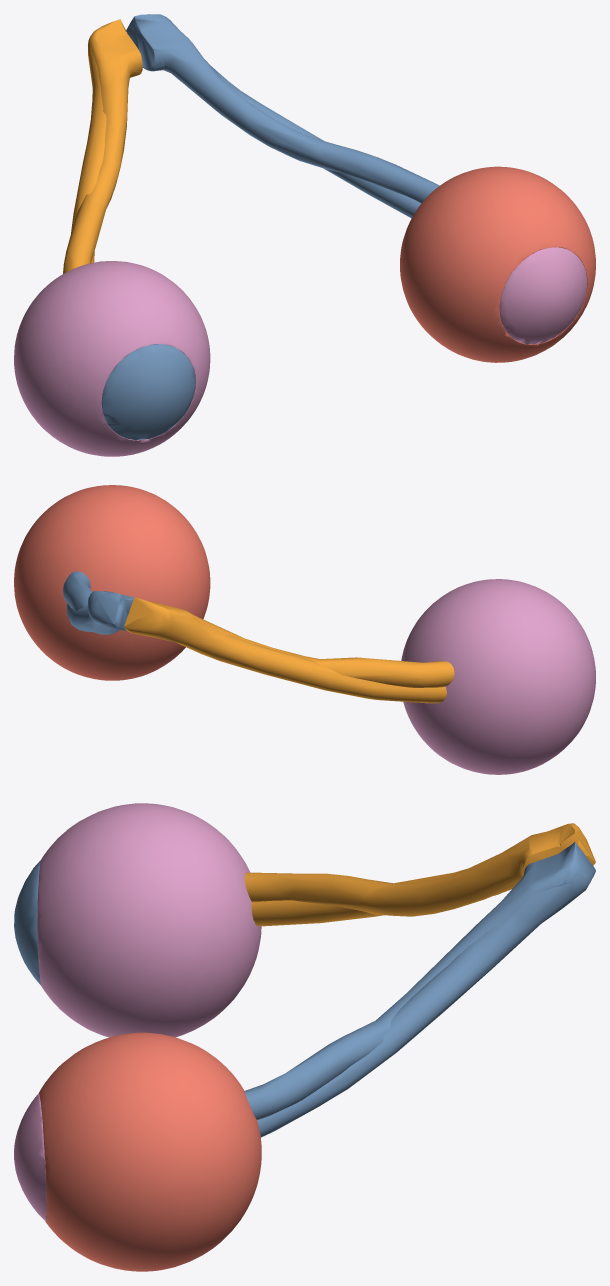
File: eye.glb
3 views of the same model, one above another, from view 1: azimuth 30°, elevation 25°; view 2: azimuth 150°, elevation 25°; view 3: azimuth 270°, elevation 25° (orthographic). The views are drawn at different scales.
Parts seen in each view (by area): view 1: Left sclera, Right sclera, Left optic nerve (×2), Right optic nerve (×2), Right cornea, Left cornea; view 2: Right sclera, Left sclera, Right optic nerve (×2), Left optic nerve (×2); view 3: Left sclera, Right sclera, Left optic nerve (×2), Right optic nerve (×2), Left cornea, Right cornea.
Boxes of the visible parts, <box> form: Left sclera: <box>400,166,595,362</box>; Right sclera: <box>14,261,210,456</box>; Left optic nerve (×2): <box>126,14,439,218</box>; Right optic nerve (×2): <box>63,19,142,273</box>; Right cornea: <box>101,344,195,440</box>; Left cornea: <box>499,247,587,344</box>; Right sclera: <box>401,579,595,774</box>; Left sclera: <box>14,485,210,680</box>; Right optic nerve (×2): <box>124,597,454,703</box>; Left optic nerve (×2): <box>63,571,134,634</box>; Left sclera: <box>38,1032,261,1271</box>; Right sclera: <box>37,803,261,1037</box>; Left optic nerve (×2): <box>244,842,595,1137</box>; Right optic nerve (×2): <box>244,823,595,926</box>; Left cornea: <box>14,1094,46,1220</box>; Right cornea: <box>14,860,41,985</box>.
Bounding box in the file's own units: 2 × 0.8694 × 1.49.
